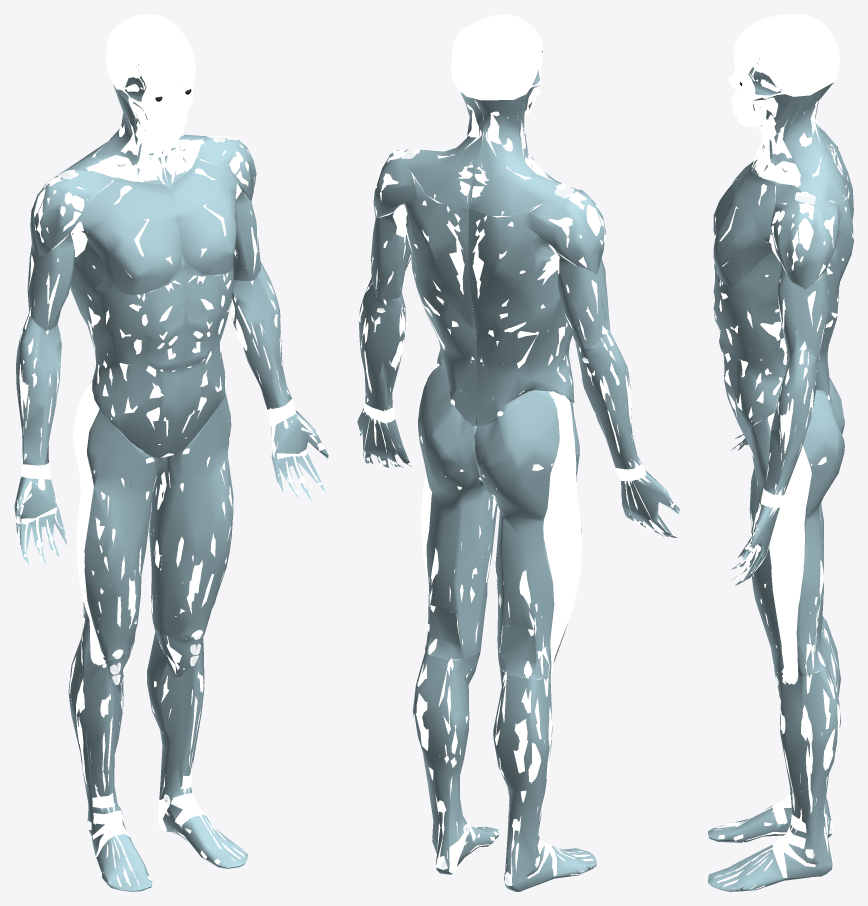
The model's file is urinario.glb.
The picture shows the model from 3 angles, left to right: view 1: azimuth 30°, elevation 25°; view 2: azimuth 150°, elevation 25°; view 3: azimuth 270°, elevation 25°; orthographic projection. The views are drawn at different scales.
Parts seen in each view (by area): view 1: Investing abdominal fascia.r, Fascia lata.l, Fascia lata.r, Crural fascia.l, Pectoral fascia.r, Crural fascia.r, Investing abdominal fascia.l, Pectoral fascia.l, Antebrachial fascia.r, Antebrachial fascia.l, Deltoid fascia.r, Iliotibial tract.r (+14 smaller); view 2: Investing abdominal fascia.r, Fascia lata.r, Fascia lata.l, Investing abdominal fascia.l, Crural fascia.r, Crural fascia.l, Iliotibial tract.r, Superficial investing cervical fascia.r, Antebrachial fascia.r, Antebrachial fascia.l, Superficial investing cervical fascia.l, Deltoid fascia.r (+16 smaller); view 3: Investing abdominal fascia.l, Crural fascia.l, Fascia lata.l, Iliotibial tract.l, Superficial investing cervical fascia.l, Pectoral fascia.l, Deltoid fascia.l, Antebrachial fascia.l, Brachial fascia.l, Epicranial aponeurosis.l, Crural fascia.r, Temporoparietalis muscle.l (+18 smaller).
Boxes of the visible parts, left/top/right/bottom form: Investing abdominal fascia.r: left=70, top=240, right=185, bottom=458; Fascia lata.l: left=149, top=392, right=233, bottom=639; Fascia lata.r: left=80, top=409, right=163, bottom=660; Crural fascia.l: left=147, top=626, right=247, bottom=868; Pectoral fascia.r: left=78, top=179, right=183, bottom=295; Crural fascia.r: left=68, top=640, right=152, bottom=891; Investing abdominal fascia.l: left=168, top=264, right=233, bottom=453; Pectoral fascia.l: left=168, top=158, right=238, bottom=275; Antebrachial fascia.r: left=16, top=316, right=61, bottom=465; Antebrachial fascia.l: left=232, top=261, right=291, bottom=409; Deltoid fascia.r: left=30, top=170, right=113, bottom=256; Iliotibial tract.r: left=73, top=381, right=106, bottom=667; Investing abdominal fascia.r: left=468, top=207, right=574, bottom=427; Fascia lata.r: left=474, top=390, right=581, bottom=679; Fascia lata.l: left=418, top=365, right=497, bottom=658; Investing abdominal fascia.l: left=401, top=177, right=476, bottom=426; Crural fascia.r: left=493, top=667, right=596, bottom=891; Crural fascia.l: left=412, top=652, right=498, bottom=874; Iliotibial tract.r: left=543, top=391, right=581, bottom=677; Superficial investing cervical fascia.r: left=469, top=87, right=570, bottom=215; Antebrachial fascia.r: left=575, top=331, right=641, bottom=469; Antebrachial fascia.l: left=358, top=278, right=405, bottom=410; Superficial investing cervical fascia.l: left=399, top=92, right=483, bottom=208; Deltoid fascia.r: left=522, top=174, right=605, bottom=274; Investing abdominal fascia.l: left=713, top=195, right=853, bottom=449; Crural fascia.l: left=708, top=659, right=840, bottom=891; Fascia lata.l: left=751, top=390, right=844, bottom=676; Iliotibial tract.l: left=767, top=412, right=811, bottom=684; Superficial investing cervical fascia.l: left=752, top=82, right=847, bottom=205; Pectoral fascia.l: left=713, top=171, right=775, bottom=286; Deltoid fascia.l: left=770, top=184, right=842, bottom=289; Antebrachial fascia.l: left=764, top=349, right=819, bottom=495; Brachial fascia.l: left=777, top=260, right=829, bottom=358; Epicranial aponeurosis.l: left=738, top=18, right=839, bottom=77; Crural fascia.r: left=708, top=620, right=840, bottom=842; Temporoparietalis muscle.l: left=758, top=47, right=821, bottom=96.
Bounding box in the file's own units: 0.6662 × 1.7 × 0.2672.
